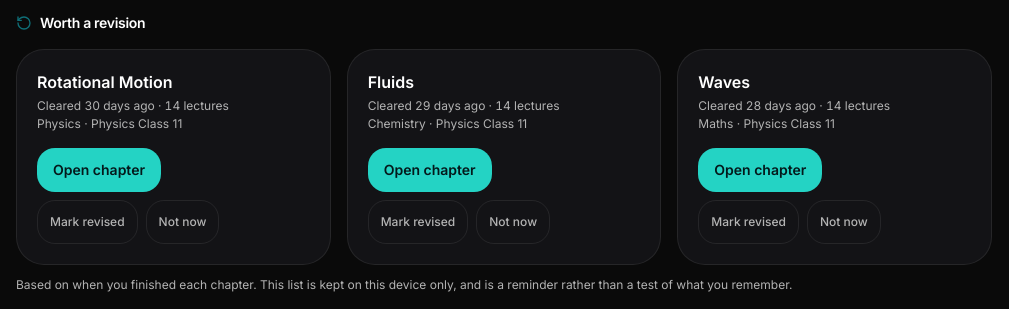
it is a nudge, not a backlog › does not top the row back up when the tab is returned to
Click the button with aria-label "Not now: Rotational Motion": click(182, 222) [146,200,219,244]
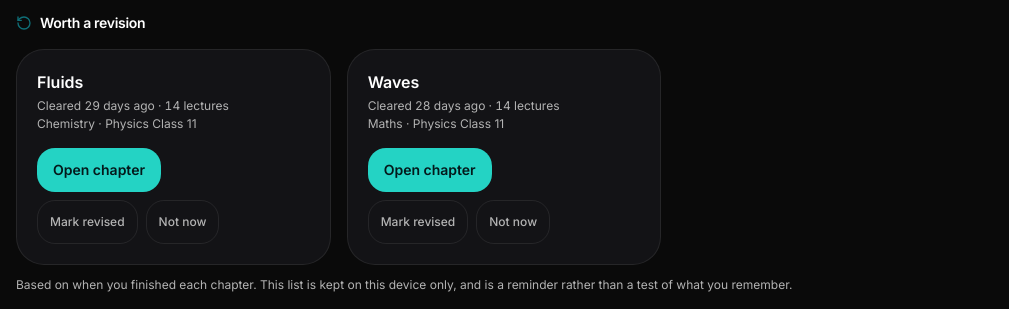
Now the number of list items is 2, box [16,49,331,265]; [347,49,661,265]
